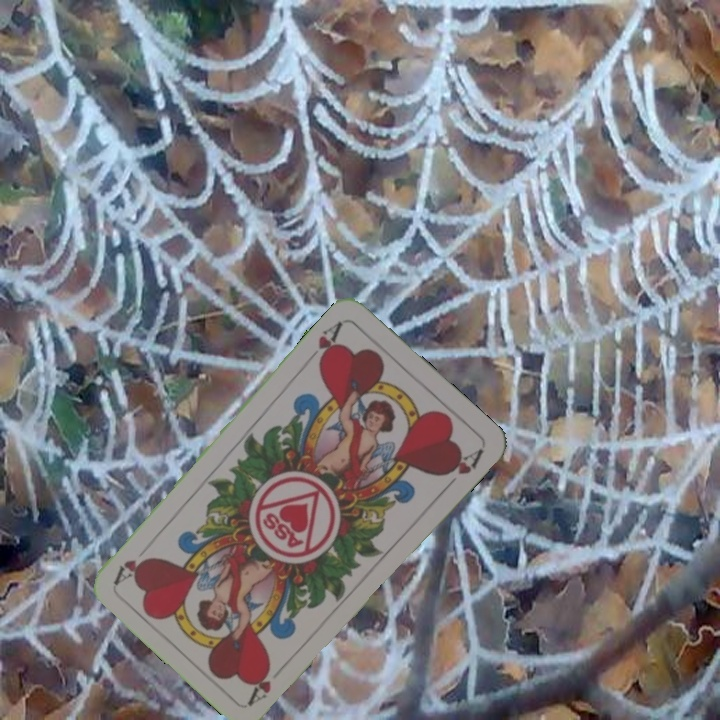HA: (314, 317, 346, 368), (244, 659, 275, 707)
